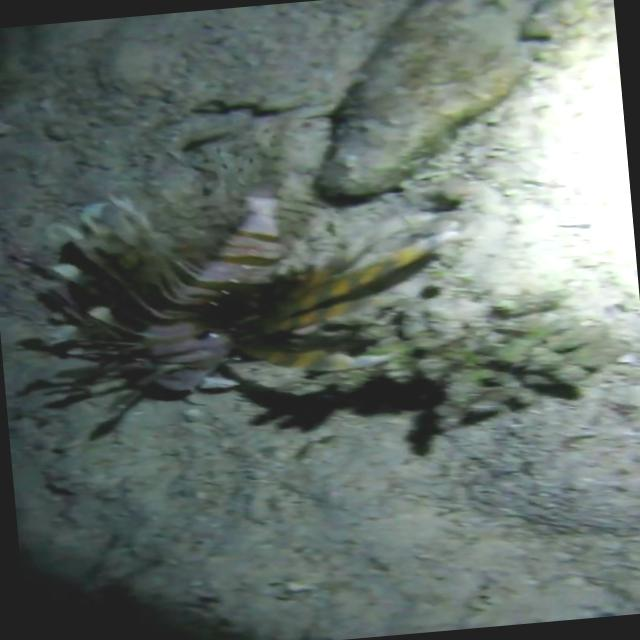Aslan Baligi: (4, 142, 470, 448)
